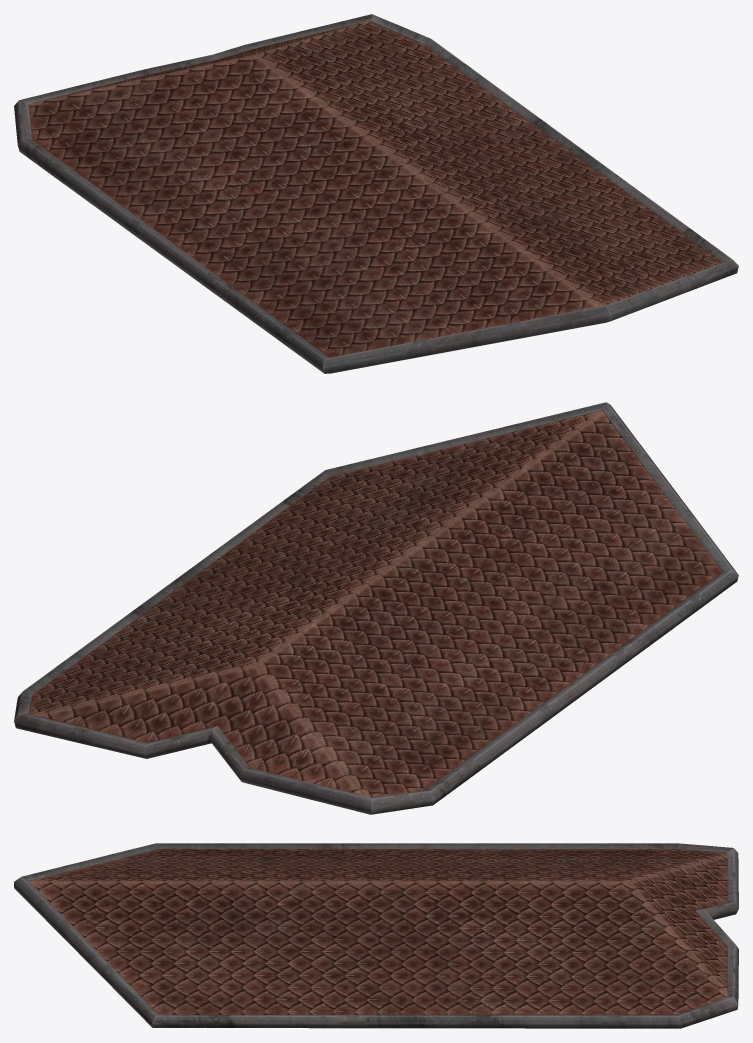
File: sm_iron_shield_tower_a.fbx
3 renders of one model, top to bottom at view 1: azimuth 30°, elevation 25°; view 2: azimuth 150°, elevation 25°; view 3: azimuth 270°, elevation 25°, orthographic. The views are drawn at different scales.
Parts seen in each view (by area): view 1: sm_iron_shield_tower_a; view 2: sm_iron_shield_tower_a; view 3: sm_iron_shield_tower_a.
Part boxes in pixels (left/top/right/bottom): sm_iron_shield_tower_a: left=14, top=14, right=738, bottom=373; sm_iron_shield_tower_a: left=14, top=402, right=738, bottom=814; sm_iron_shield_tower_a: left=14, top=843, right=738, bottom=1028.
Bounding box in the file's own units: 0.6184 × 1.07 × 0.1094.
Materials: 1 (1 with a texture image).
